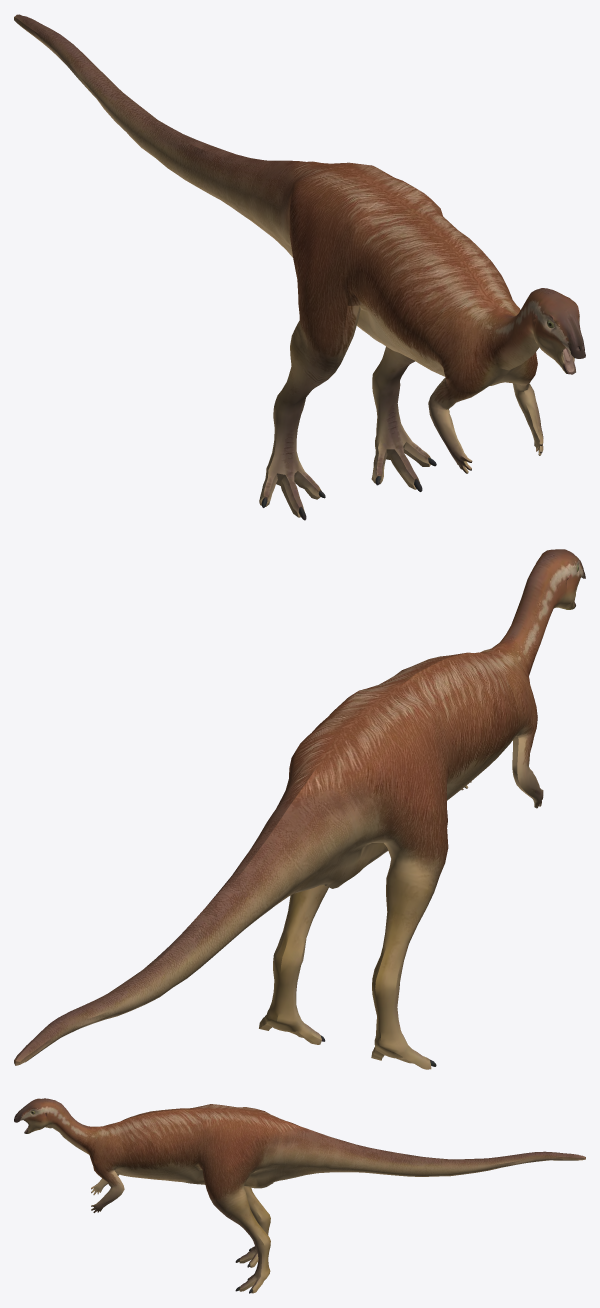
File: duckbill_2.glb
3 renders of one model, top to bottom at view 1: azimuth 30°, elevation 25°; view 2: azimuth 150°, elevation 25°; view 3: azimuth 270°, elevation 25°, orthographic. The views are drawn at different scales.
Size of the model in its own units: 1.95 by 3.76 by 10.96.
1 material, 1 textured.
